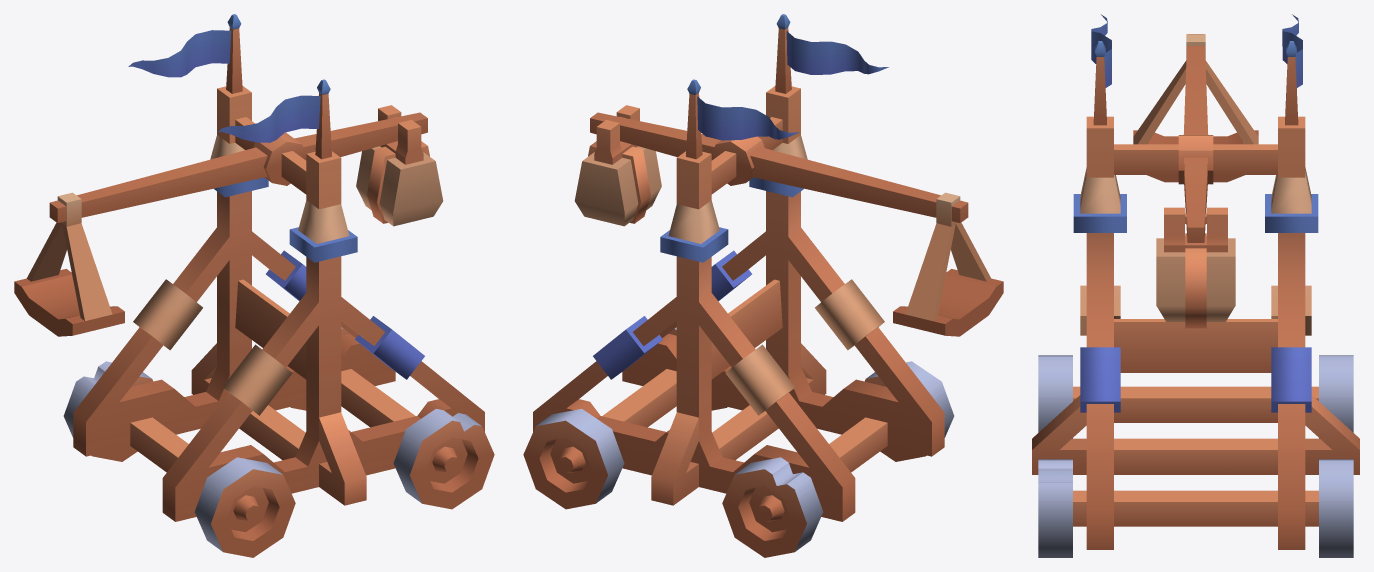
File: kenney-castle-siege-trebuchet.glb
3 renders of one model, left to right at view 1: azimuth 30°, elevation 25°; view 2: azimuth 150°, elevation 25°; view 3: azimuth 270°, elevation 25°, orthographic. The views are drawn at different scales.
Parts seen in each view (by area): view 1: siege-trebuchet; view 2: siege-trebuchet; view 3: siege-trebuchet.
Part boxes in pixels (bbox=[...]): siege-trebuchet: bbox=[14, 14, 494, 557]; siege-trebuchet: bbox=[523, 14, 1003, 557]; siege-trebuchet: bbox=[1032, 14, 1359, 557].
Size of the model in its own units: 1.85 by 1.96 by 1.26.
1 material, 1 textured.
